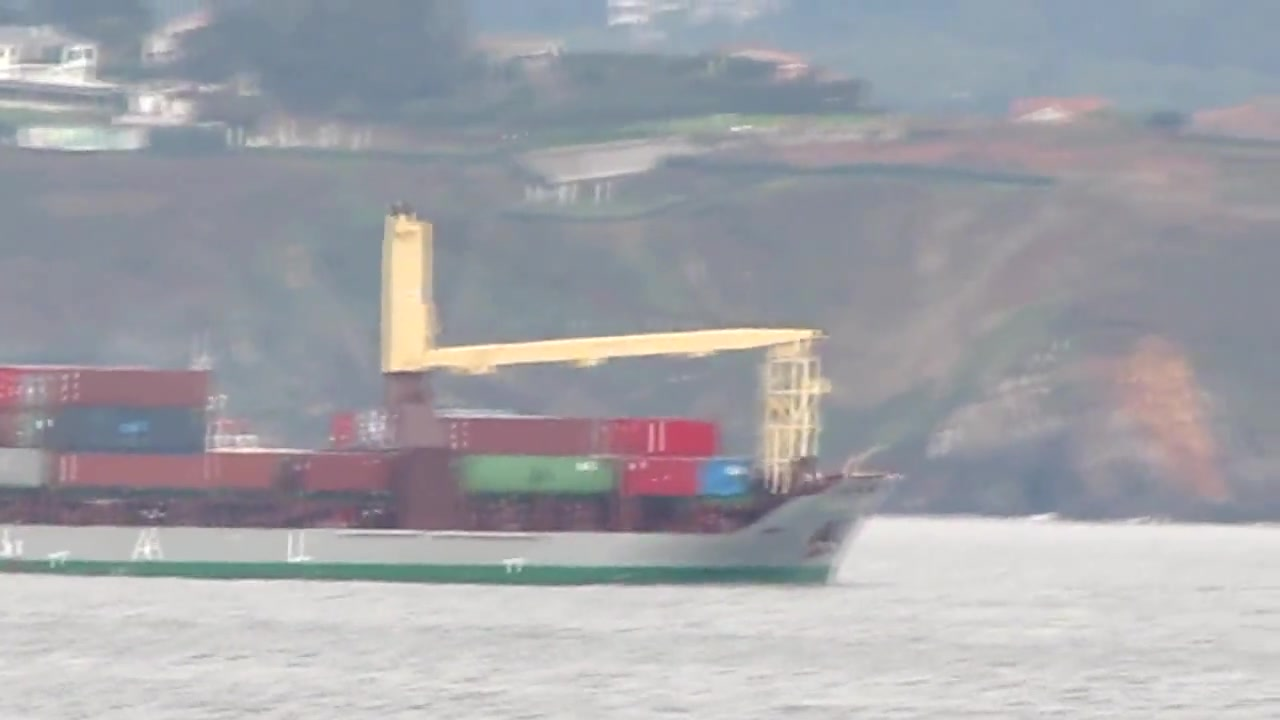boat: (1, 207, 909, 591)
